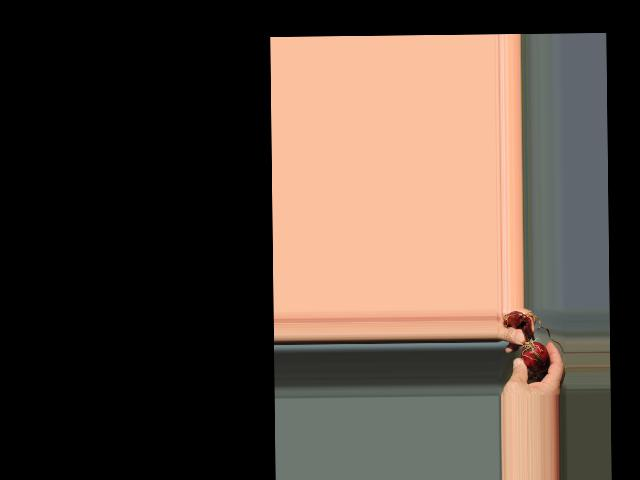onion: (520, 341, 548, 369)
